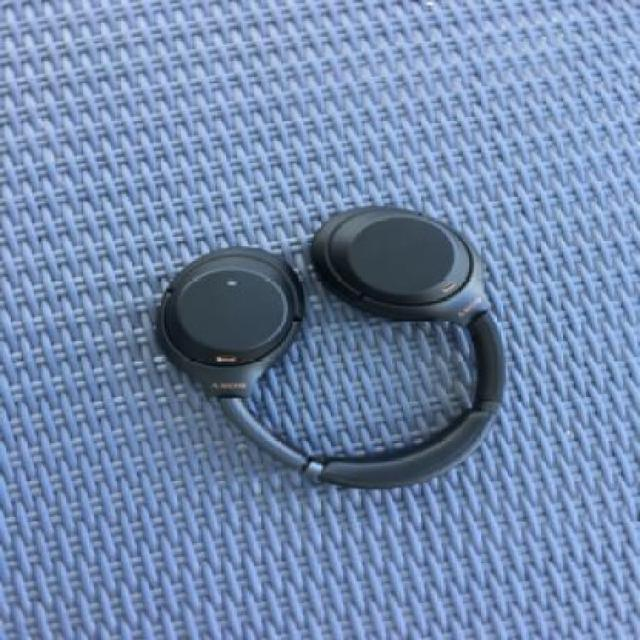earphone: (150, 185, 532, 508)
